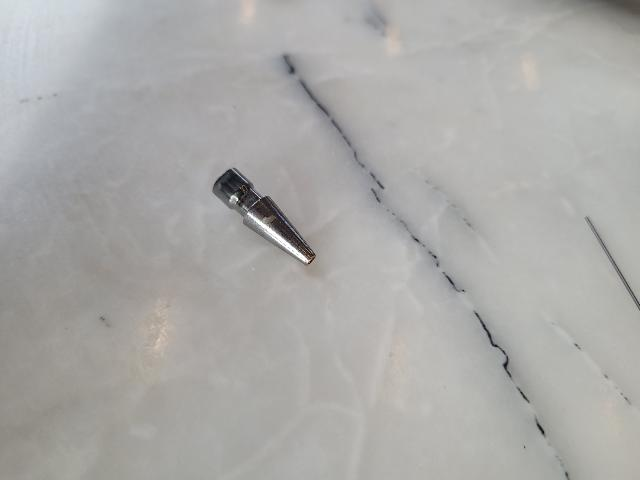Metal: (210, 164, 319, 265)
